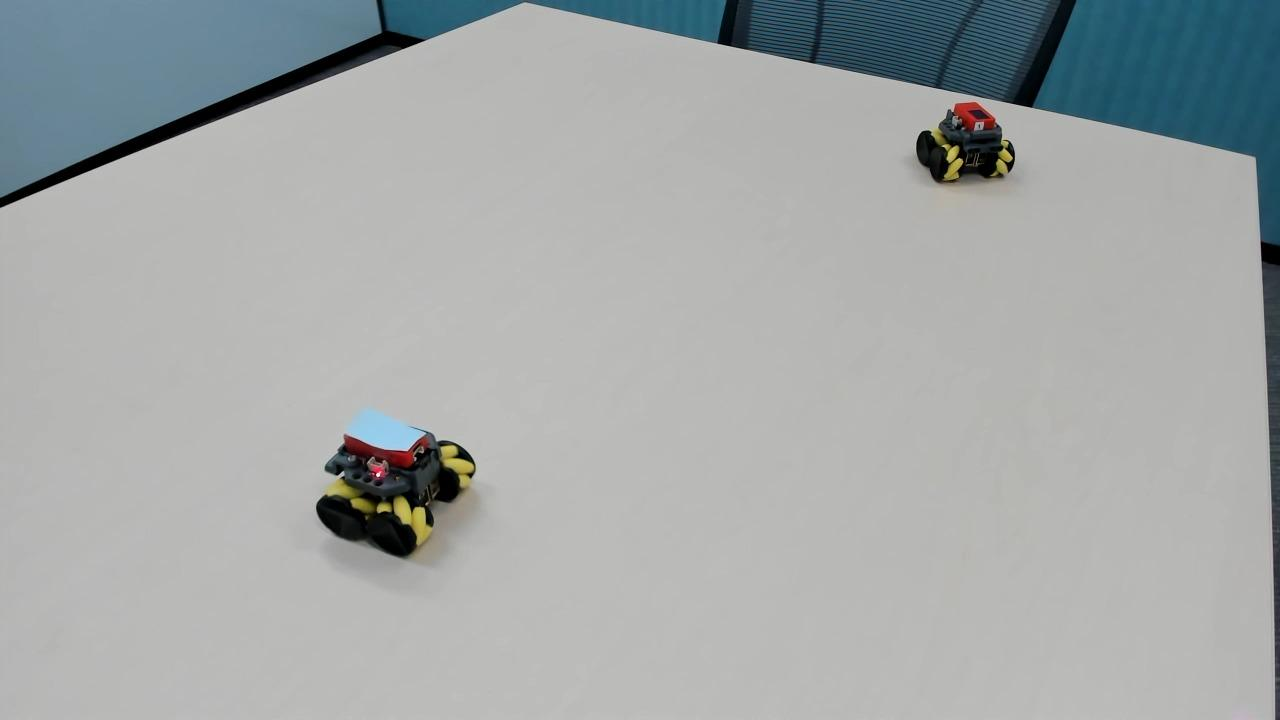B-Robot: (305, 398, 491, 578)
R-Robot: (911, 90, 1033, 207)
